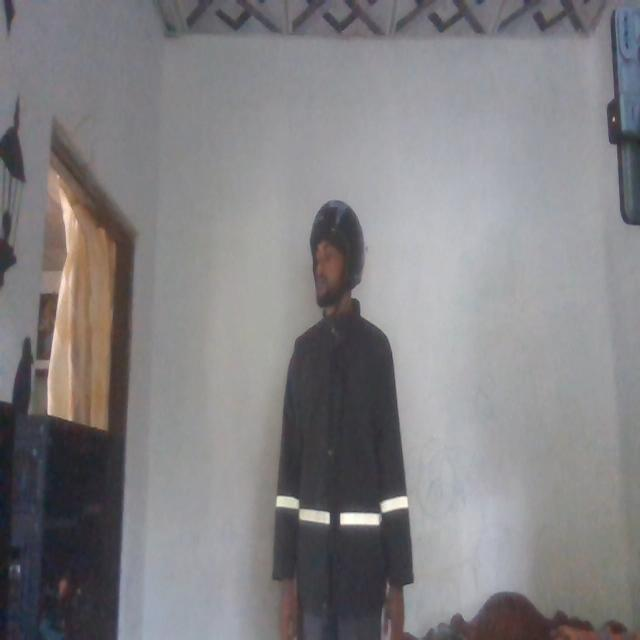Helmet_Wearer: (297, 187, 368, 319)
Jacket_Wearer: (269, 308, 413, 640)
Person: (265, 199, 417, 640)
